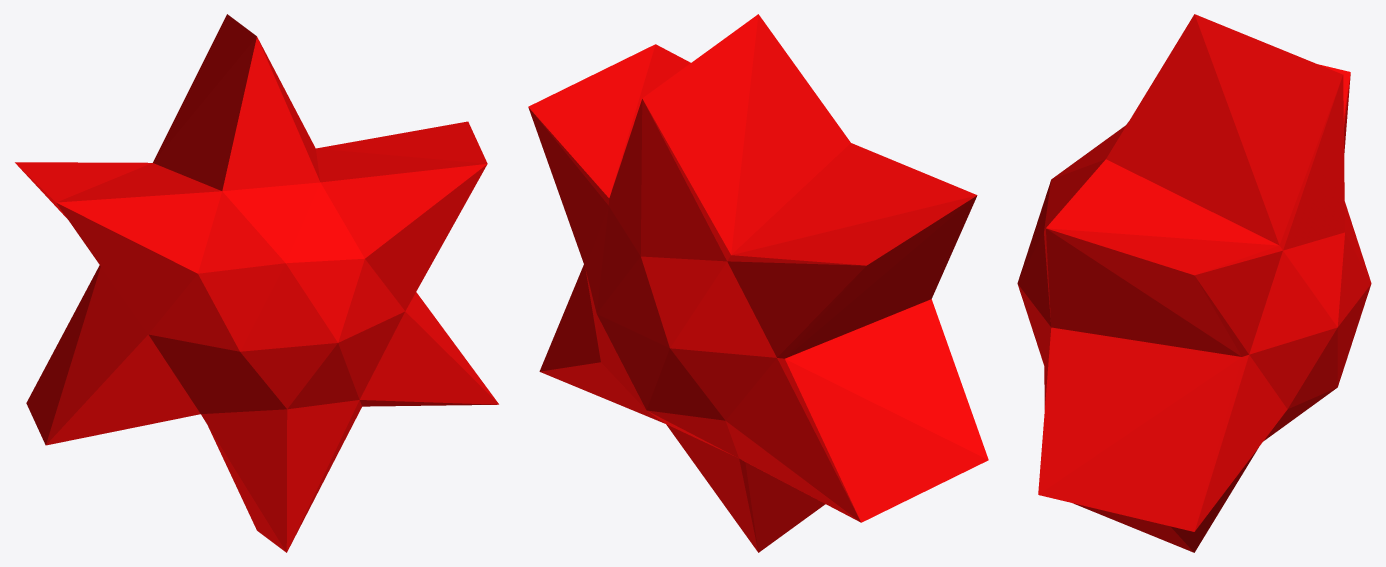
3 renders of one model, left to right at view 1: azimuth 30°, elevation 25°; view 2: azimuth 150°, elevation 25°; view 3: azimuth 270°, elevation 25°, orthographic. The views are drawn at different scales.
Parts seen in each view (by area): view 1: Icosphere; view 2: Icosphere; view 3: Icosphere.
Boxes of the visible parts, x1,y1,x2,y2 form: Icosphere: (15, 14, 498, 552); Icosphere: (528, 14, 988, 552); Icosphere: (1017, 14, 1371, 552).
Size of the model in its own units: 300 by 336 by 200.
